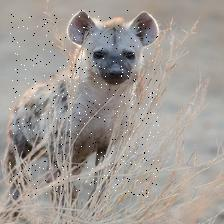hyena: (9, 11, 159, 198)
